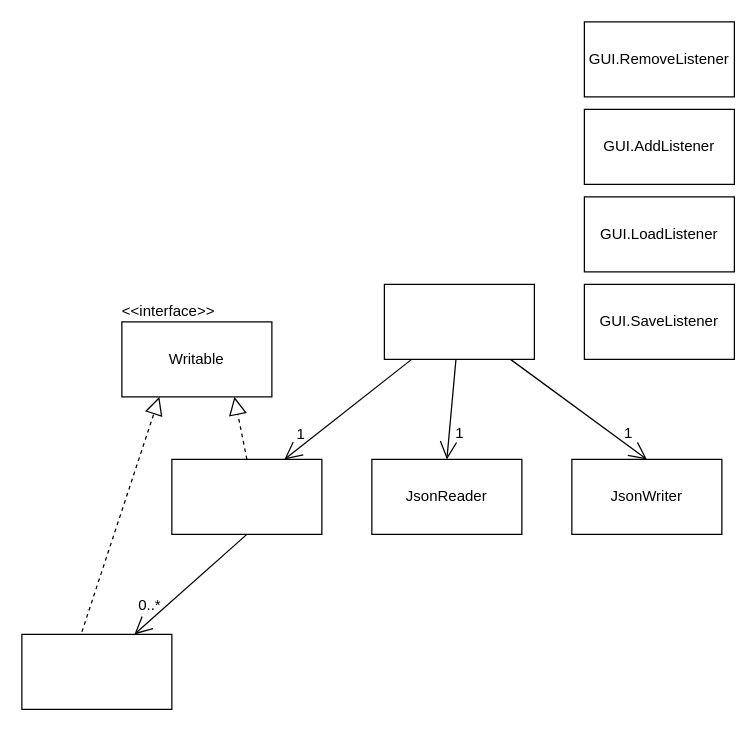
Image size: 756x731. Some labels were removed from this diagram. The box of each missing label's shape, as (x1, y1, x2, y2) in pixels:
GUI: (383, 283, 534, 359)
Movie: (21, 633, 172, 709)
MovieList: (171, 458, 322, 534)
